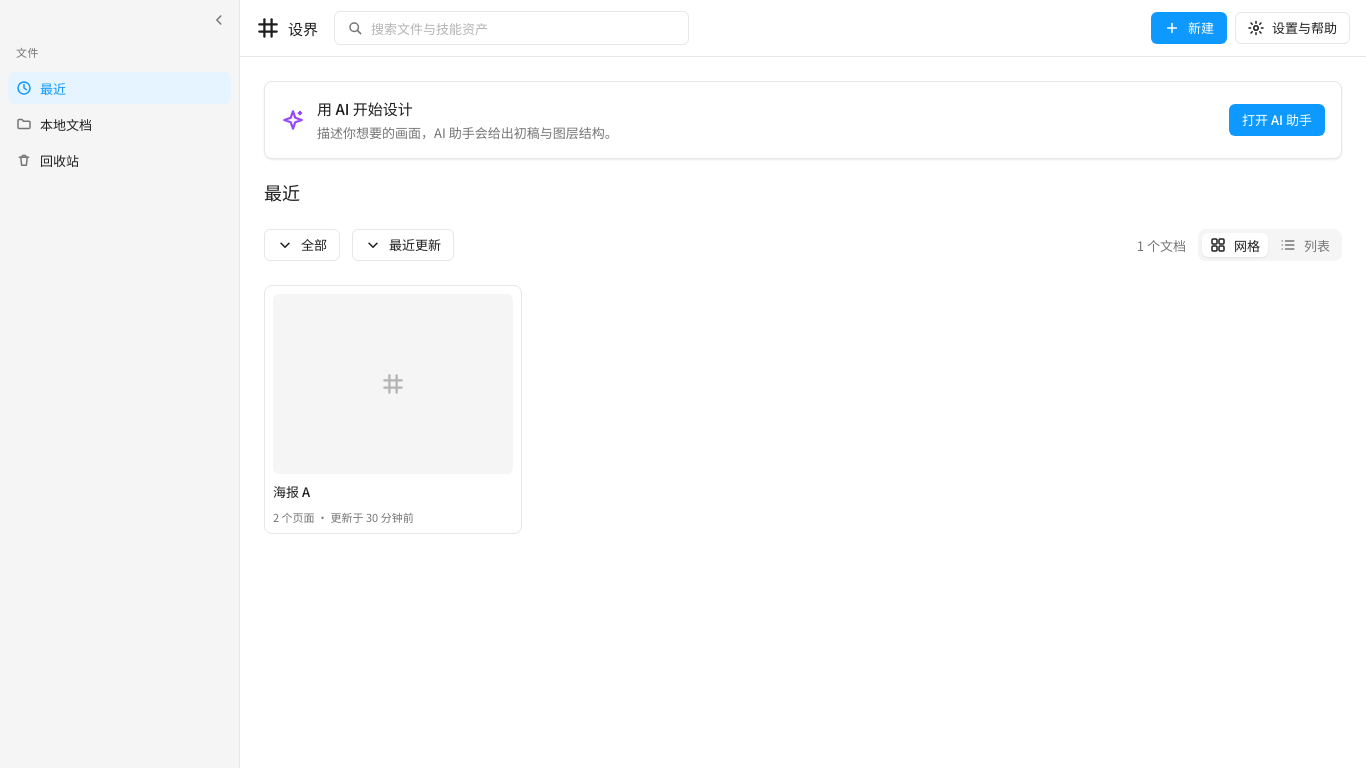
Scenario: HomeView · 搜索与筛选 › 搜索无果 → 「没有找到相关文件」空态，清除筛选后恢复
Expected: the link with aria-label "打开「海报 A」" is shown, [264,285,522,534]
Type "不存在" into the search field labelled "搜索文件与技能资产" at (524, 28), box [371,12,676,44]
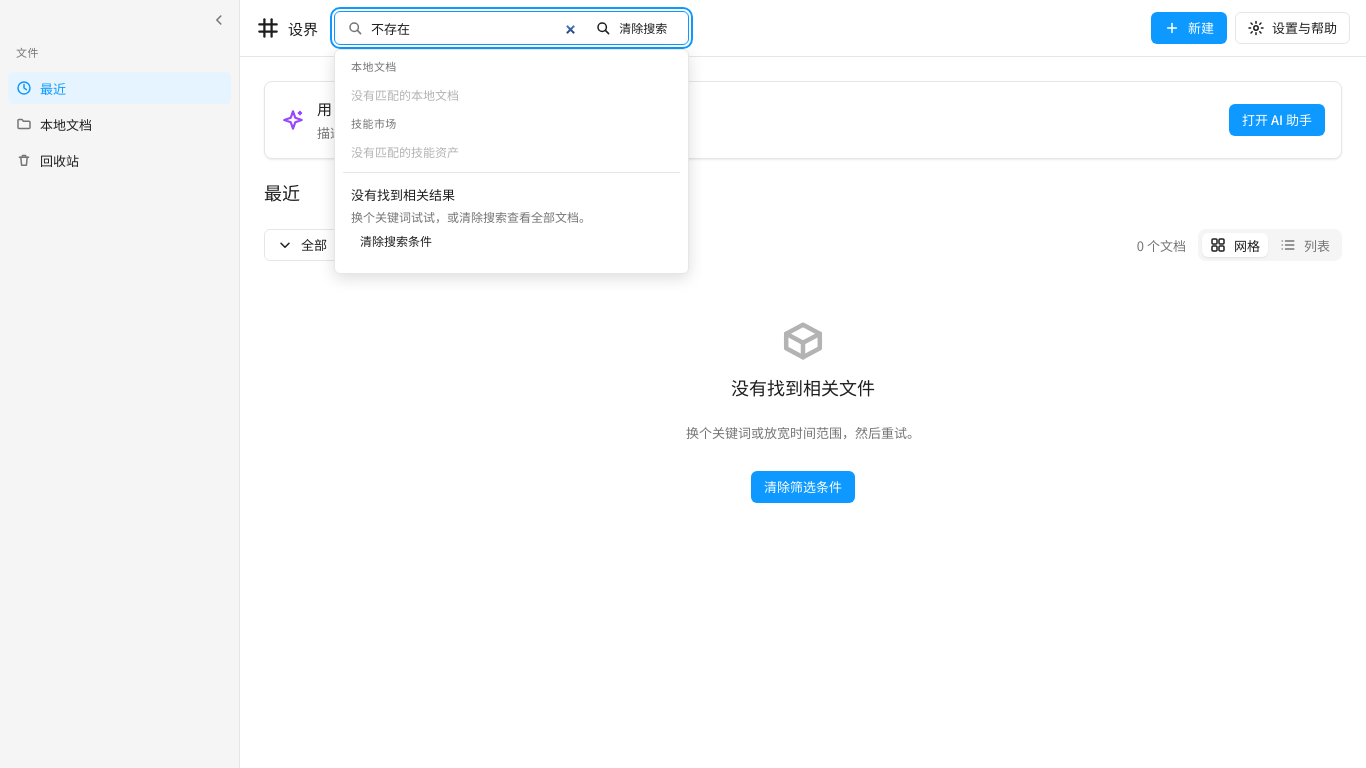
Now the text "没有找到相关文件" is shown, box [731,377,875,399]
Click the button "清除筛选条件" at (803, 487), box [751,471,855,503]
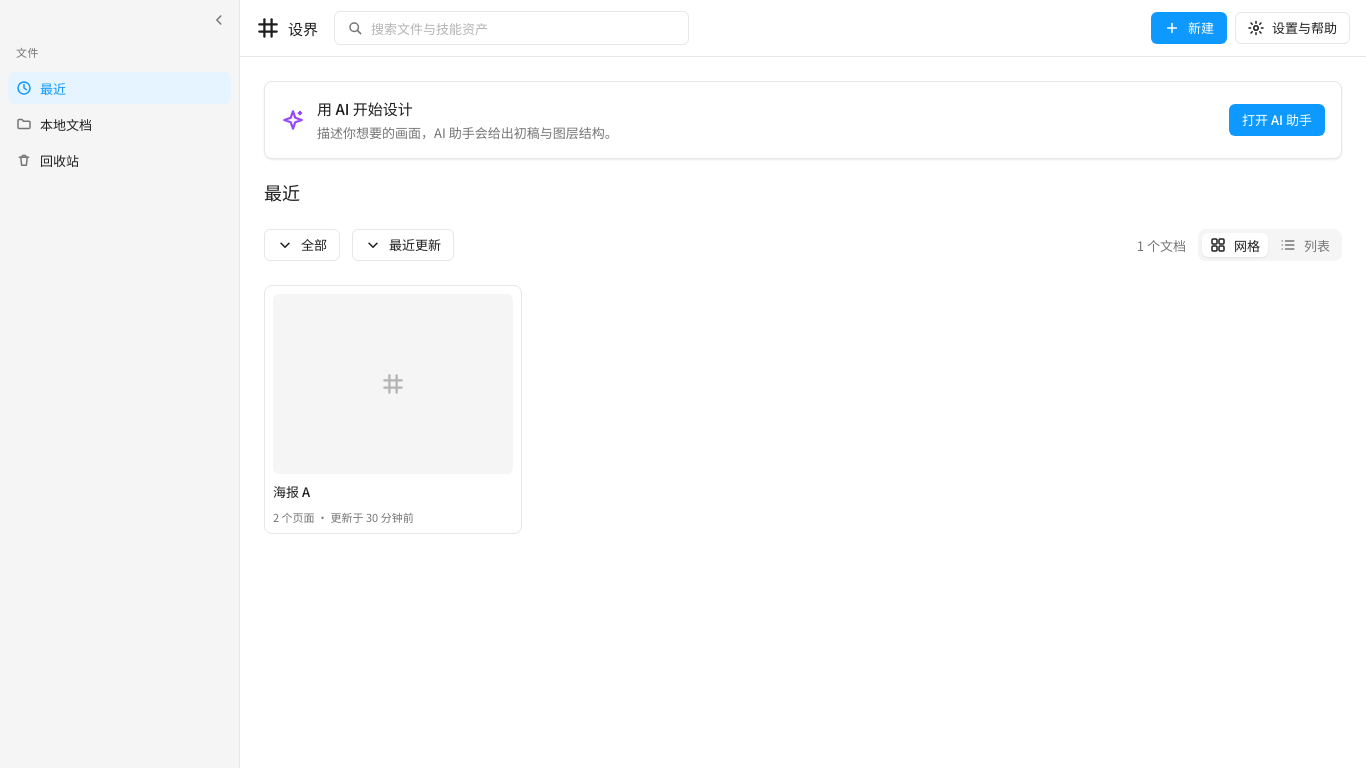
Now the link with aria-label "打开「海报 A」" is shown, box [264,285,522,534]
